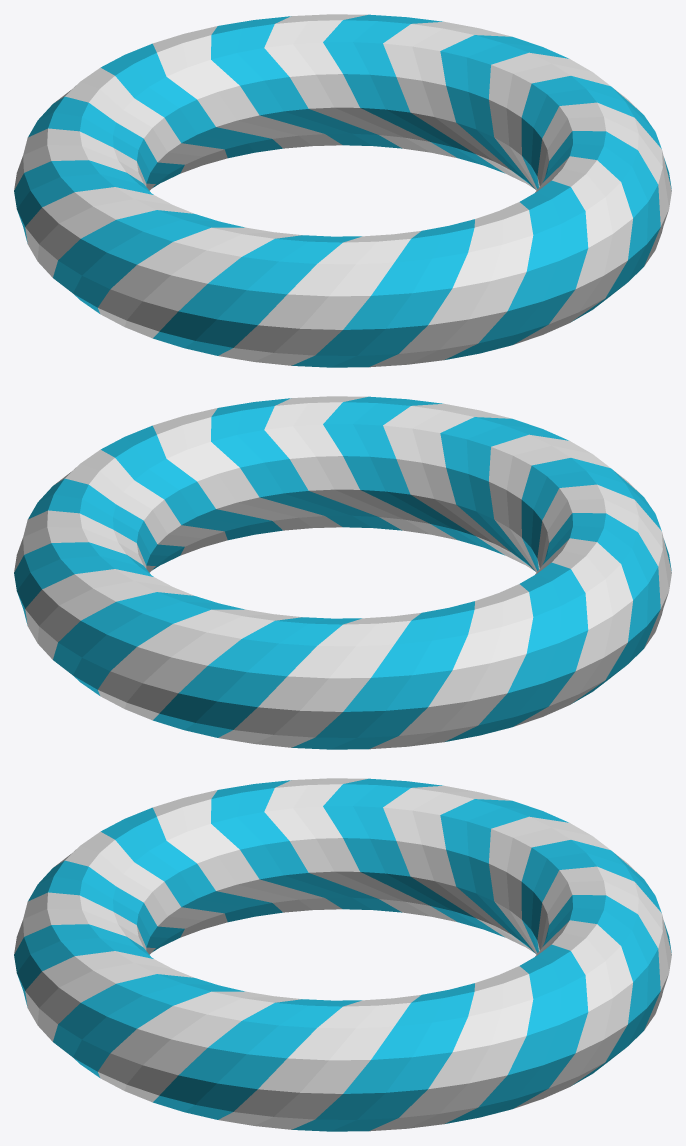
The model's file is Float.fbx.
The picture shows the model from 3 angles, top to bottom: view 1: azimuth 30°, elevation 25°; view 2: azimuth 150°, elevation 25°; view 3: azimuth 270°, elevation 25°; orthographic projection.
Parts seen in each view (by area): view 1: Torus; view 2: Torus; view 3: Torus.
Part boxes in pixels (x1,y1,x2,y2): Torus: (14, 14, 671, 367); Torus: (14, 396, 671, 749); Torus: (14, 778, 671, 1131).
Size of the model in its own units: 443 by 88.57 by 443.
